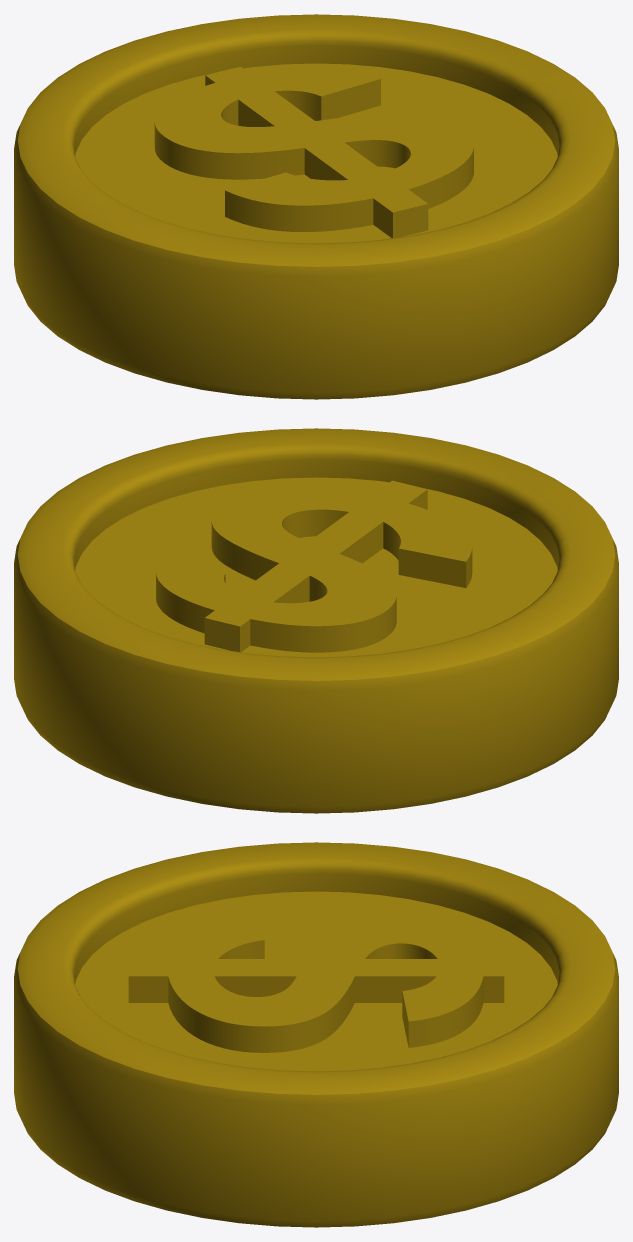
The model's file is dolar_coin.fbx.
3 renders of one model, top to bottom at view 1: azimuth 30°, elevation 25°; view 2: azimuth 150°, elevation 25°; view 3: azimuth 270°, elevation 25°, orthographic.
Parts seen in each view (by area): view 1: ChamferCyl002, dolar; view 2: ChamferCyl002, dolar; view 3: ChamferCyl002, dolar.
Part boxes in pixels (x1,y1,x2,y2): ChamferCyl002: [14, 14, 618, 399]; dolar: [154, 66, 473, 238]; ChamferCyl002: [14, 428, 618, 813]; dolar: [156, 480, 472, 652]; ChamferCyl002: [14, 842, 618, 1227]; dolar: [128, 909, 504, 1052].
Size of the model in its own units: 31 by 7.88 by 31.
